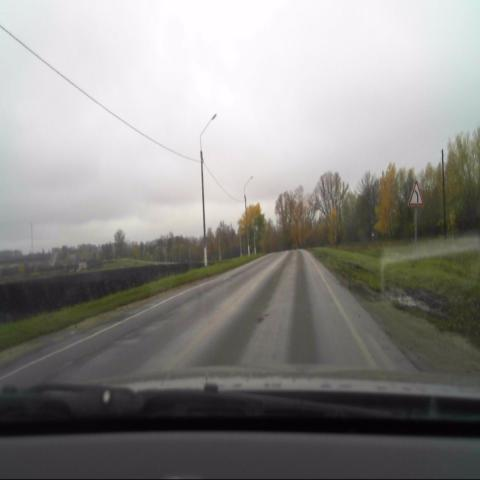1_11_1: (408, 180, 423, 207)
